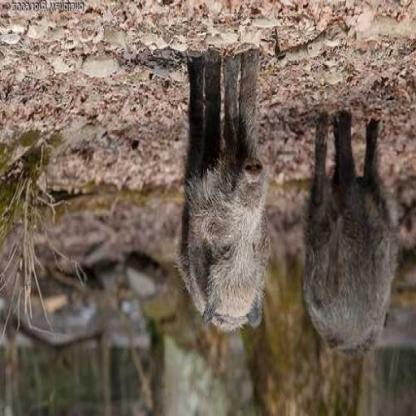boar: (151, 43, 311, 335)
